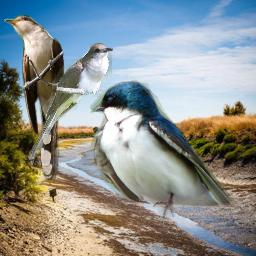Cuckoo: (4, 15, 65, 180), (27, 43, 113, 160)
Swallow: (90, 79, 237, 228)
